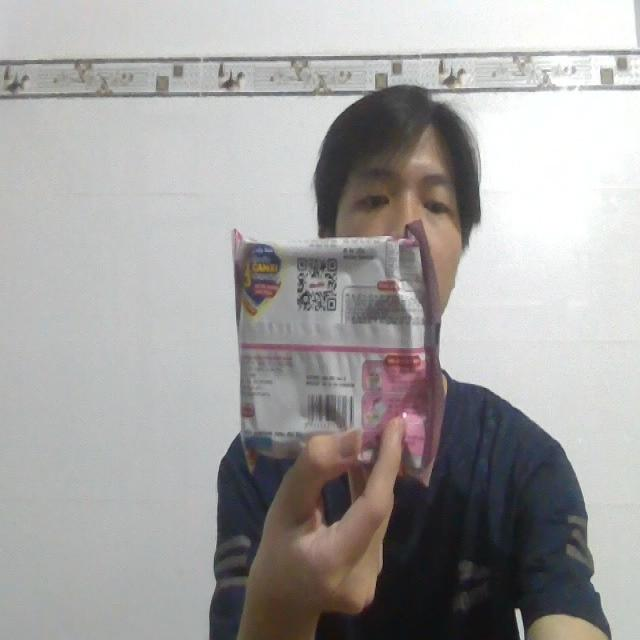mi hao hao: (217, 218, 458, 489)
